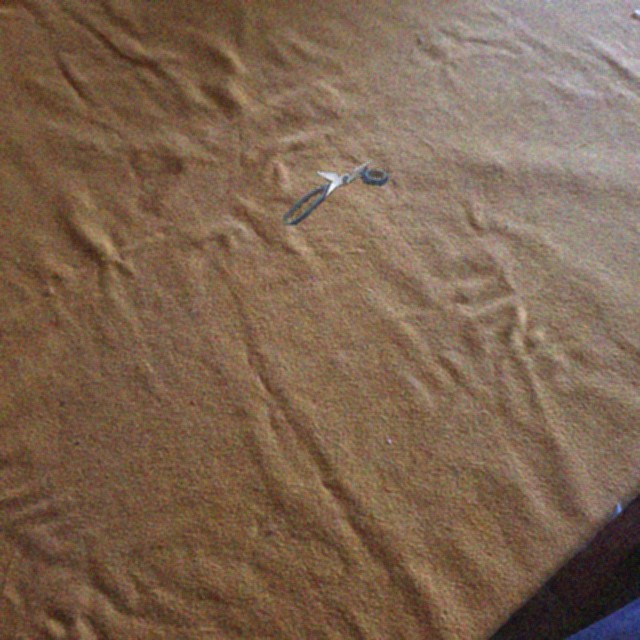scissors: (283, 160, 388, 225)
